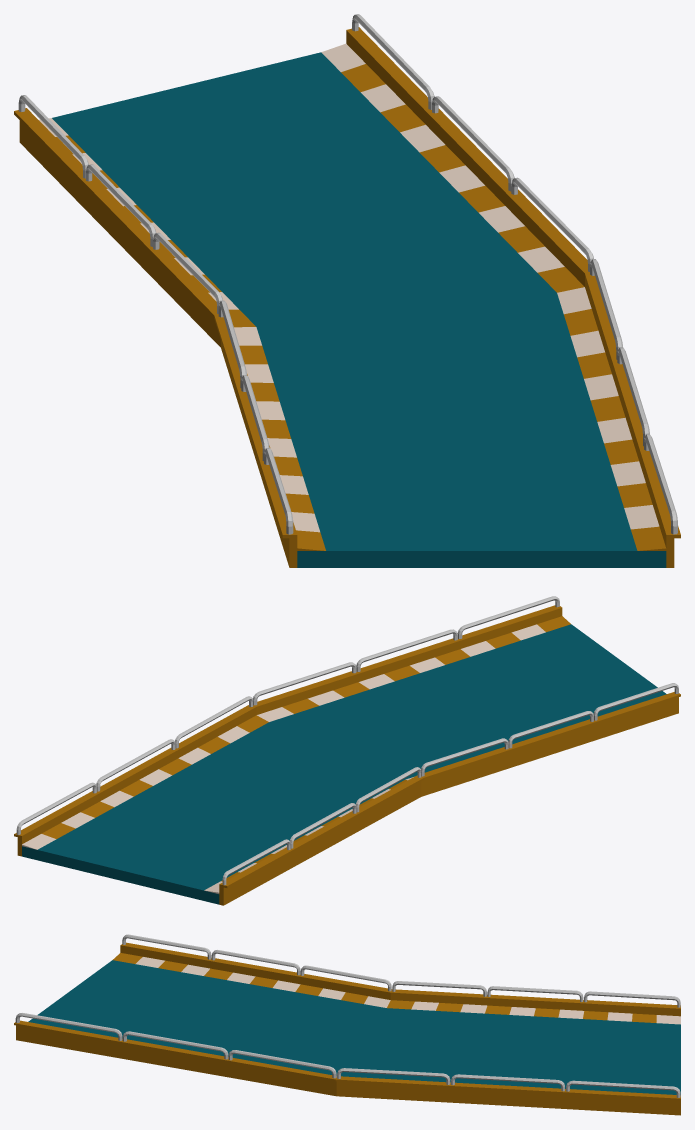
File: curveRight-30_l.FBX
3 renders of one model, top to bottom at view 1: azimuth 30°, elevation 25°; view 2: azimuth 150°, elevation 25°; view 3: azimuth 270°, elevation 25°, orthographic. The views are drawn at different scales.
Visible parts, largest first — view 1: curveRight-30_l, curbs_l, wall_l, wall_r, curbs_r; view 2: curveRight-30_l, wall_r, wall_l, curbs_l, curbs_r; view 3: curveRight-30_l, wall_l, wall_r, curbs_r.
Part boxes in pixels (box(x1,y1,x2,y2)): curveRight-30_l: box(52, 52, 666, 567); curbs_l: box(321, 43, 666, 550); wall_l: box(346, 14, 680, 567); wall_r: box(14, 95, 297, 567); curbs_r: box(39, 118, 325, 550); curveRight-30_l: box(22, 624, 666, 904); wall_r: box(219, 683, 680, 905); wall_l: box(14, 596, 562, 856); curbs_l: box(22, 616, 570, 849); curbs_r: box(204, 777, 413, 893); curveRight-30_l: box(28, 960, 680, 1094); wall_l: box(14, 1013, 680, 1115); wall_r: box(120, 934, 680, 1016); curbs_r: box(113, 953, 680, 1024).
Size of what is drawn, in the model's own units: 347 by 29.31 by 625.
